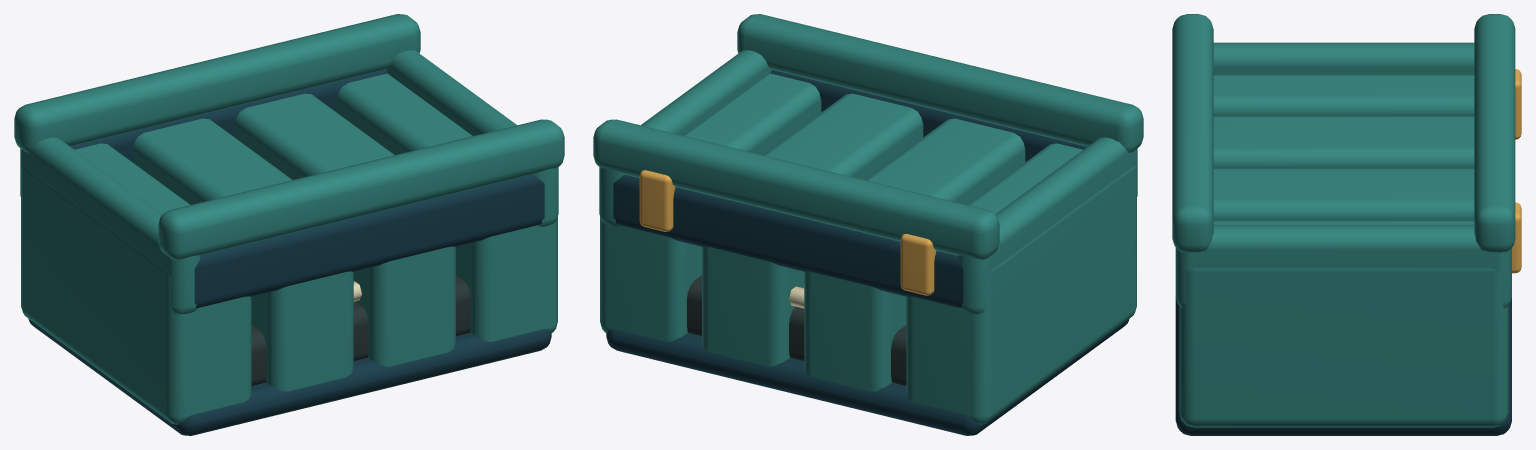
The model's file is BodegaPesca.fbx.
3 renders of one model, left to right at view 1: azimuth 30°, elevation 25°; view 2: azimuth 150°, elevation 25°; view 3: azimuth 270°, elevation 25°, orthographic. The views are drawn at different scales.
Visible parts, largest first — view 1: Surf_Teal.001, Surf_Navy.001, Surf_Rubber.001; view 2: Surf_Teal.001, Surf_Navy.001, Surf_Brass.001, Surf_Rubber.001; view 3: Surf_Teal.001, Surf_Navy.001, Surf_Brass.001.
Part boxes in pixels (x1,y1,x2,y2): Surf_Teal.001: [14, 14, 564, 424]; Surf_Navy.001: [28, 70, 551, 435]; Surf_Rubber.001: [251, 275, 470, 385]; Surf_Teal.001: [593, 14, 1143, 424]; Surf_Navy.001: [606, 70, 1129, 435]; Surf_Brass.001: [639, 170, 936, 295]; Surf_Rubber.001: [687, 275, 906, 385]; Surf_Teal.001: [1172, 14, 1515, 427]; Surf_Navy.001: [1175, 297, 1511, 435]; Surf_Brass.001: [1512, 69, 1521, 273].
Bounding box in the file's own units: 0.7 × 0.3775 × 0.509.
